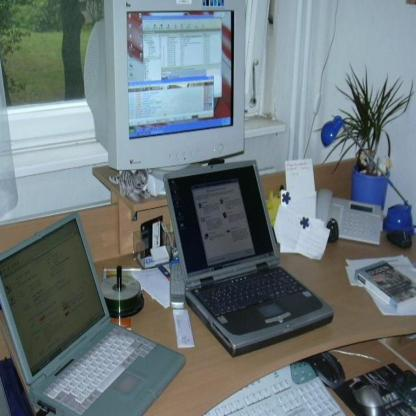board: (0, 210, 186, 416), (161, 151, 329, 354)
